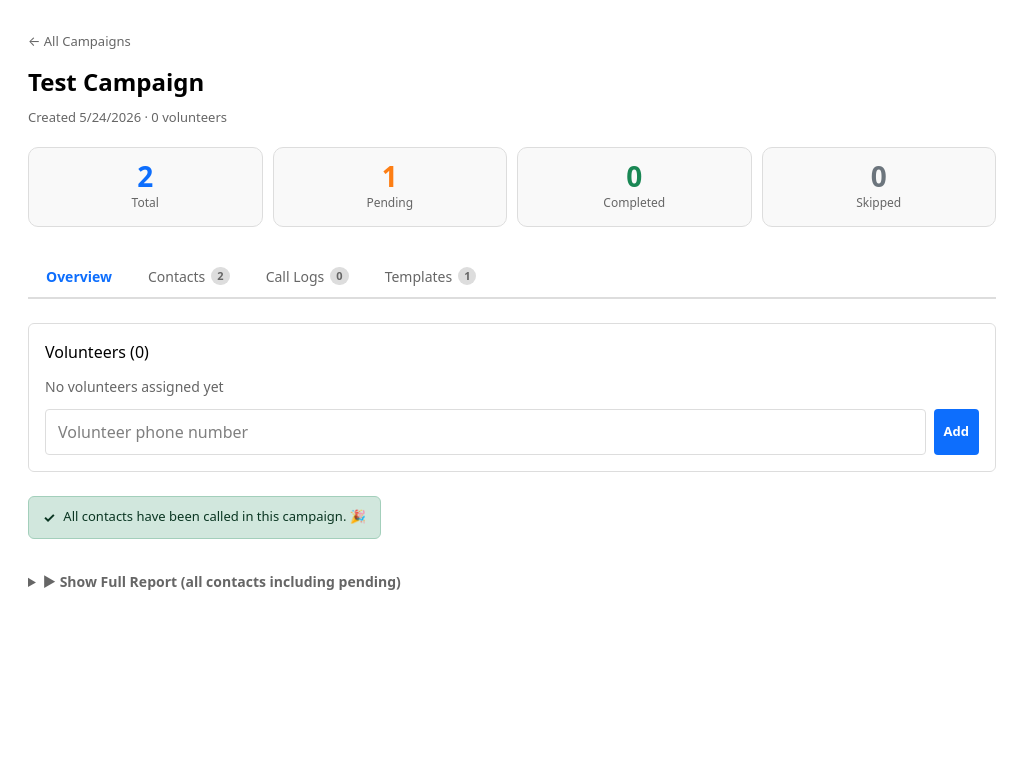
CampaignDetailPage - role-based template UI visibility › USER role sees "+ Add Template" button in campaign detail
Click the tab "Templates 1" at (430, 277), box [367,255,494,299]
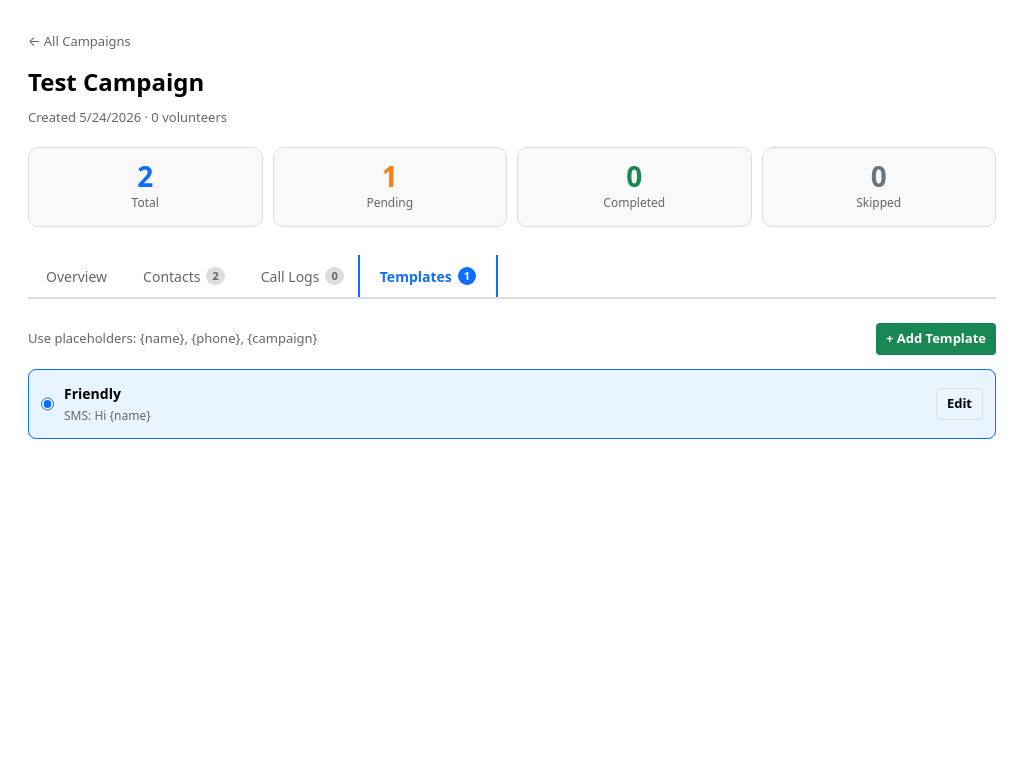
Expected: the button "+ Add Template" is shown, [876,323,996,355]
